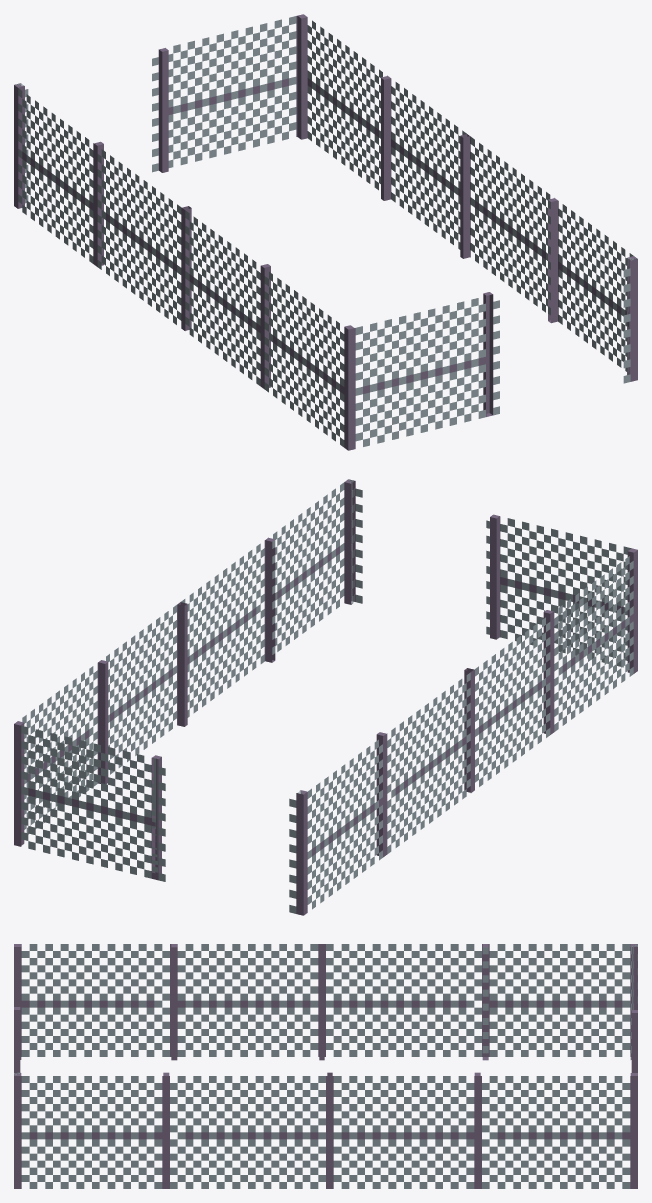
Rendered from alley1.glb.
3 renders of one model, top to bottom at view 1: azimuth 30°, elevation 25°; view 2: azimuth 150°, elevation 25°; view 3: azimuth 270°, elevation 25°, orthographic. The views are drawn at different scales.
Visible parts, largest first — view 1: alley1.001; view 2: alley1.001; view 3: alley1.001.
Part boxes in pixels (x1,y1,x2,y2): alley1.001: (14, 14, 637, 450); alley1.001: (14, 479, 637, 915); alley1.001: (14, 944, 637, 1188).
Bounding box in the file's own units: 5 × 2 × 10.
Materials: 4 (4 with a texture image).
